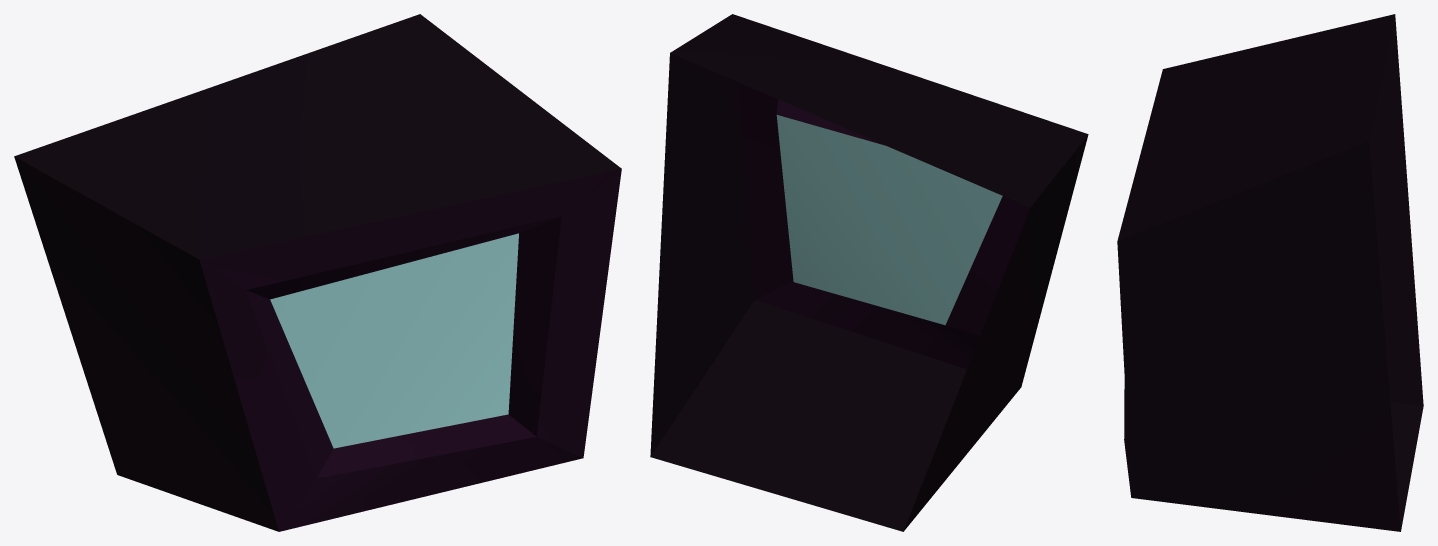
File: c_house_window_square_ab.fbx
3 views of the same model, side by side, from view 1: azimuth 30°, elevation 25°; view 2: azimuth 150°, elevation 25°; view 3: azimuth 270°, elevation 25° (orthographic). The views are drawn at different scales.
Visible parts, largest first — view 1: c_house_window_square_ab; view 2: c_house_window_square_ab; view 3: c_house_window_square_ab.
Part boxes in pixels (x1,y1,x2,y2): c_house_window_square_ab: (14,14,621,531); c_house_window_square_ab: (650,14,1088,531); c_house_window_square_ab: (1117,14,1423,531).
Size of the model in its own units: 1.42 by 1.23 by 0.8694.
